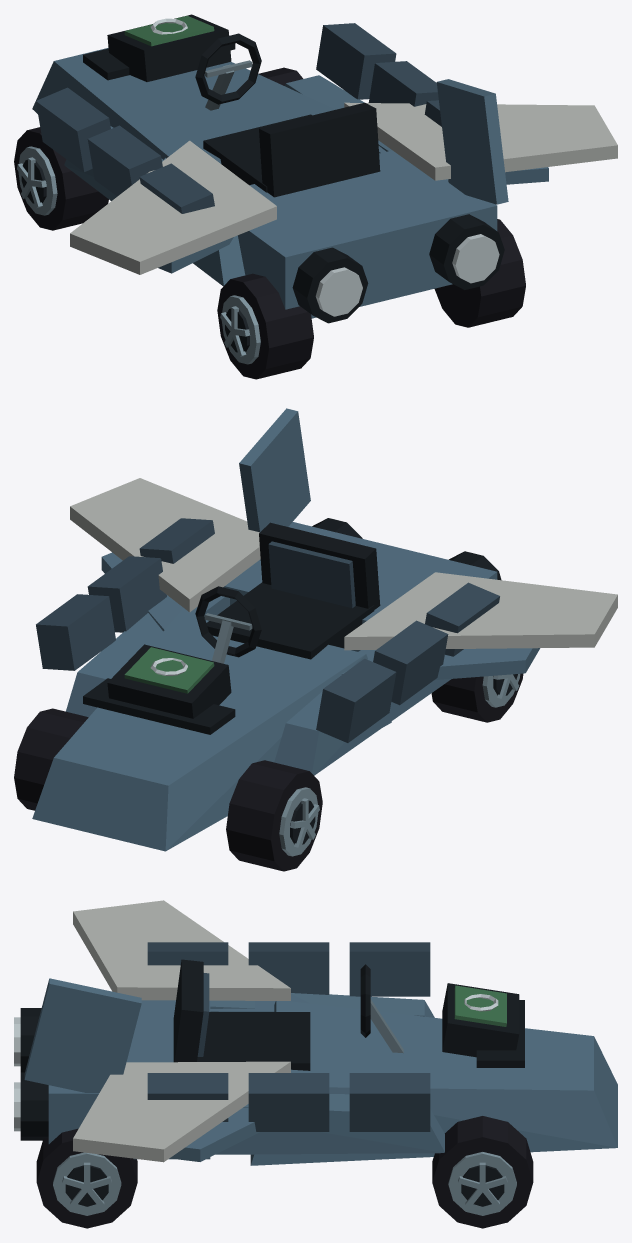
The model's file is kart.glb.
The picture shows the model from 3 angles, top to bottom: view 1: azimuth 30°, elevation 25°; view 2: azimuth 150°, elevation 25°; view 3: azimuth 270°, elevation 25°; orthographic projection. The views are drawn at different scales.
Parts seen in each view (by area): view 1: identity-shuttle-shuttle-flight-planform, identity-shuttle-motif-wings, identity-shuttle-motif-armor, identity-shuttle-driver-cockpit, wheel-rear-left, wheel-front-left, identity-shuttle-motif-scanner, wheel-rear-right; view 2: identity-shuttle-shuttle-flight-planform, identity-shuttle-motif-wings, identity-shuttle-motif-armor, identity-shuttle-driver-cockpit, wheel-front-left, identity-shuttle-motif-scanner, wheel-front-right, wheel-rear-left; view 3: identity-shuttle-shuttle-flight-planform, identity-shuttle-motif-wings, identity-shuttle-motif-armor, identity-shuttle-driver-cockpit, wheel-front-right, wheel-rear-right, identity-shuttle-motif-scanner.
Part boxes in pixels (left/top/right/bottom): identity-shuttle-shuttle-flight-planform: left=32, top=43, right=548, bottom=323; identity-shuttle-motif-wings: left=70, top=102, right=617, bottom=274; identity-shuttle-motif-armor: left=36, top=23, right=441, bottom=213; identity-shuttle-driver-cockpit: left=195, top=33, right=380, bottom=197; wheel-rear-left: left=217, top=273, right=313, bottom=379; wheel-front-left: left=14, top=127, right=108, bottom=230; identity-shuttle-motif-scanner: left=107, top=14, right=231, bottom=81; wheel-rear-right: left=434, top=219, right=525, bottom=327; identity-shuttle-shuttle-flight-planform: left=32, top=408, right=540, bottom=851; identity-shuttle-motif-wings: left=70, top=478, right=617, bottom=650; identity-shuttle-motif-armor: left=36, top=518, right=499, bottom=742; identity-shuttle-driver-cockpit: left=195, top=522, right=380, bottom=663; wheel-front-left: left=226, top=760, right=322, bottom=871; identity-shuttle-motif-scanner: left=107, top=644, right=231, bottom=718; wheel-front-right: left=14, top=708, right=88, bottom=810; wheel-rear-left: left=431, top=673, right=523, bottom=722; identity-shuttle-shuttle-flight-planform: left=14, top=978, right=617, bottom=1165; identity-shuttle-motif-wings: left=73, top=900, right=290, bottom=1162; identity-shuttle-motif-armor: left=147, top=942, right=430, bottom=1131; identity-shuttle-driver-cockpit: left=173, top=959, right=403, bottom=1070; wheel-front-right: left=432, top=1116, right=533, bottom=1228; wheel-rear-right: left=36, top=1128, right=137, bottom=1228; identity-shuttle-motif-scanner: left=442, top=983, right=519, bottom=1057.
Size of the model in its own units: 2.92 by 1.28 by 2.99.
